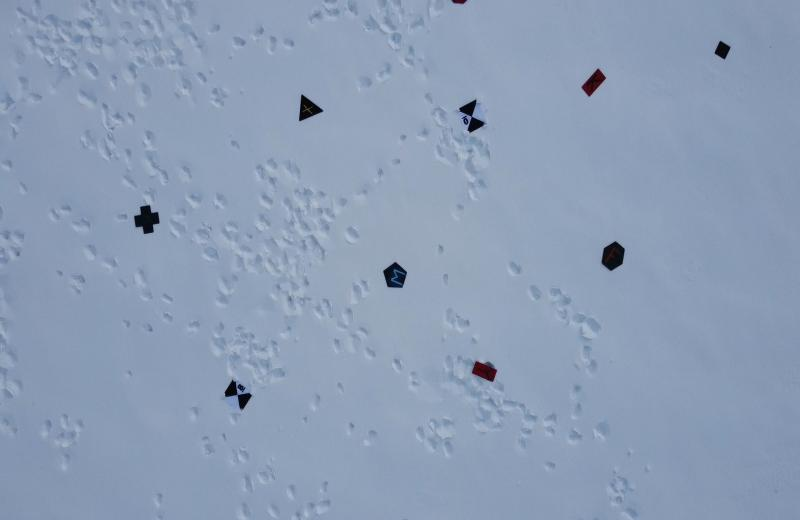Cross: (128, 202, 160, 236)
Hexagon: (599, 236, 629, 273)
Pentagon: (380, 262, 410, 296)
Rectangle: (466, 357, 500, 387), (578, 65, 607, 99)
Square: (712, 37, 732, 62)
Triangle: (296, 90, 324, 124)
